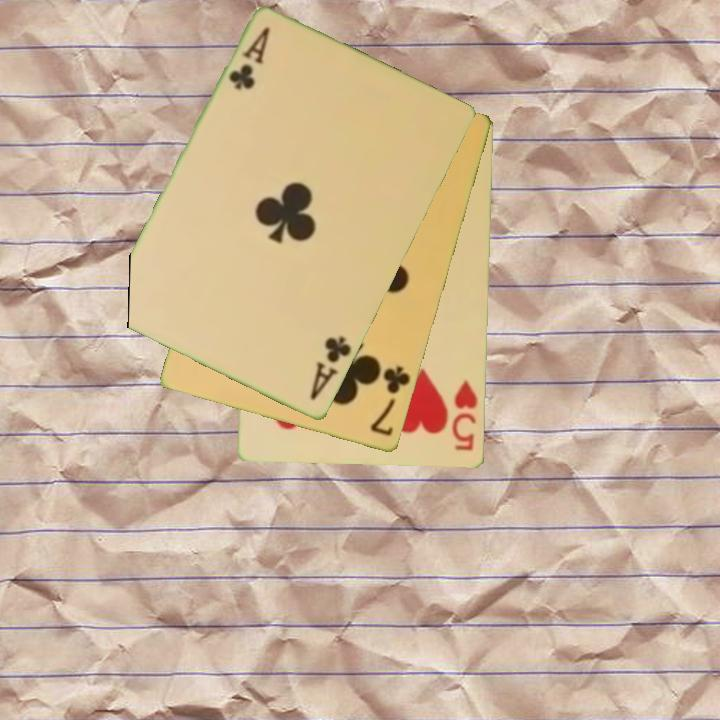5h: (448, 377, 481, 454)
7c: (367, 363, 414, 440)
Ac: (225, 24, 273, 94), (307, 333, 354, 403)
